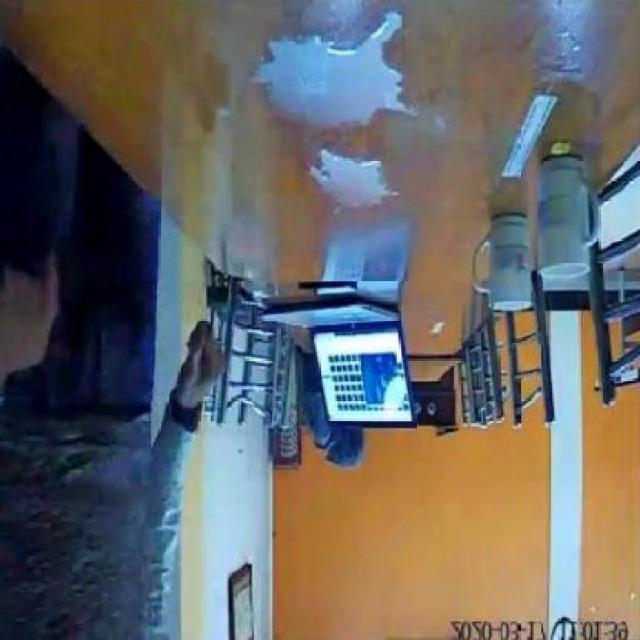spillage: (254, 10, 414, 125), (310, 149, 394, 213)
